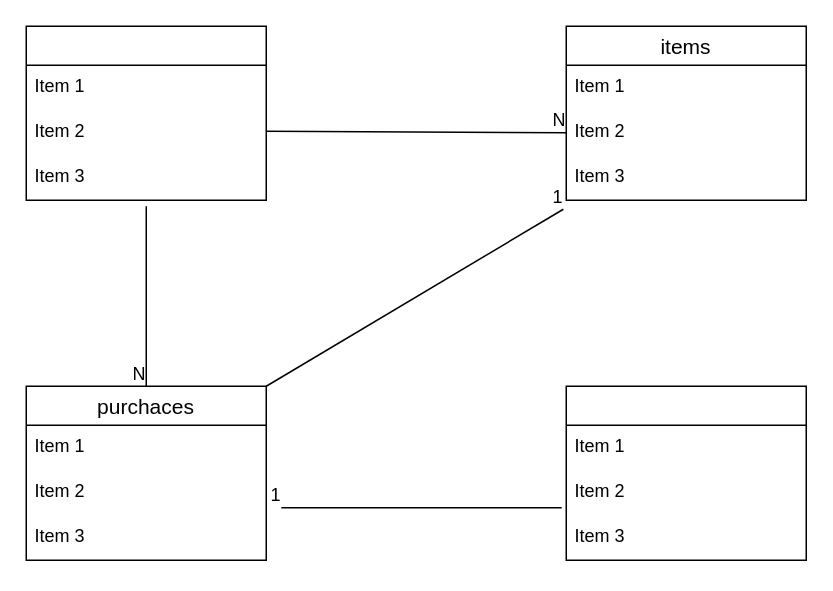
The diagram is 833 pixels wide and 591 high, and some of its shapes have lost their labels. The shapes that lost their labels are listed below. From the top down, each one's box as (x1, y1, x2, y2) in pixels, then its label:
(25, 25, 266, 200): users
(565, 385, 806, 560): adress
